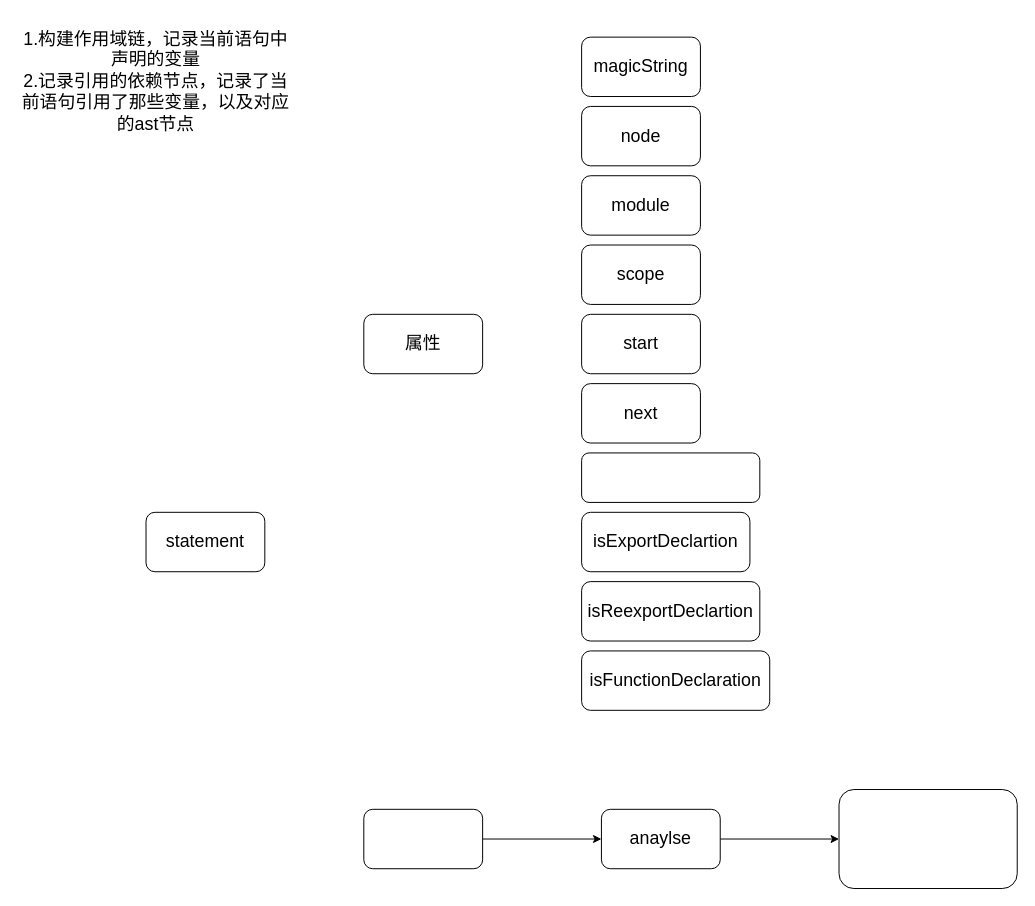
Some shapes in this 1035 by 906 pixel diagram are drawn without their labels. The shapes that lost their labels are listed below. From the top down, each one's centre as x and y in pixels, then its label:
At point 670,477: "isImportDeclaration".
At point 423,838: "方法".
At point 927,839: "1.构建作用域链，记录声明的节点 2.寻找引用的依赖节点，记录节点表".
